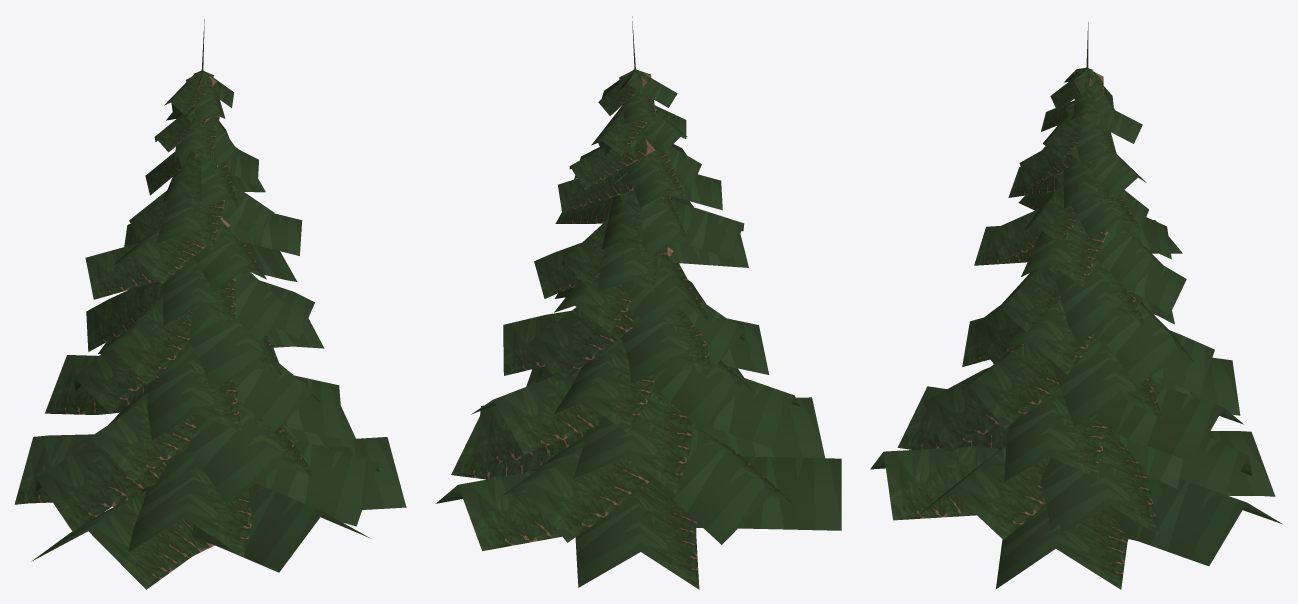
Rendered from Spruce_.fbx.
3 renders of one model, left to right at view 1: azimuth 30°, elevation 25°; view 2: azimuth 150°, elevation 25°; view 3: azimuth 270°, elevation 25°, orthographic.
Visible parts, largest first — view 1: spruce_1:spruce1_1; view 2: spruce_1:spruce1_1; view 3: spruce_1:spruce1_1.
Boxes of the visible parts, left/top/right/bottom form: spruce_1:spruce1_1: left=14, top=70, right=406, bottom=589; spruce_1:spruce1_1: left=435, top=69, right=841, bottom=589; spruce_1:spruce1_1: left=870, top=68, right=1282, bottom=589.
Bounding box in the file's own units: 4.22 × 5.87 × 4.2.
2 materials, 2 textured.
